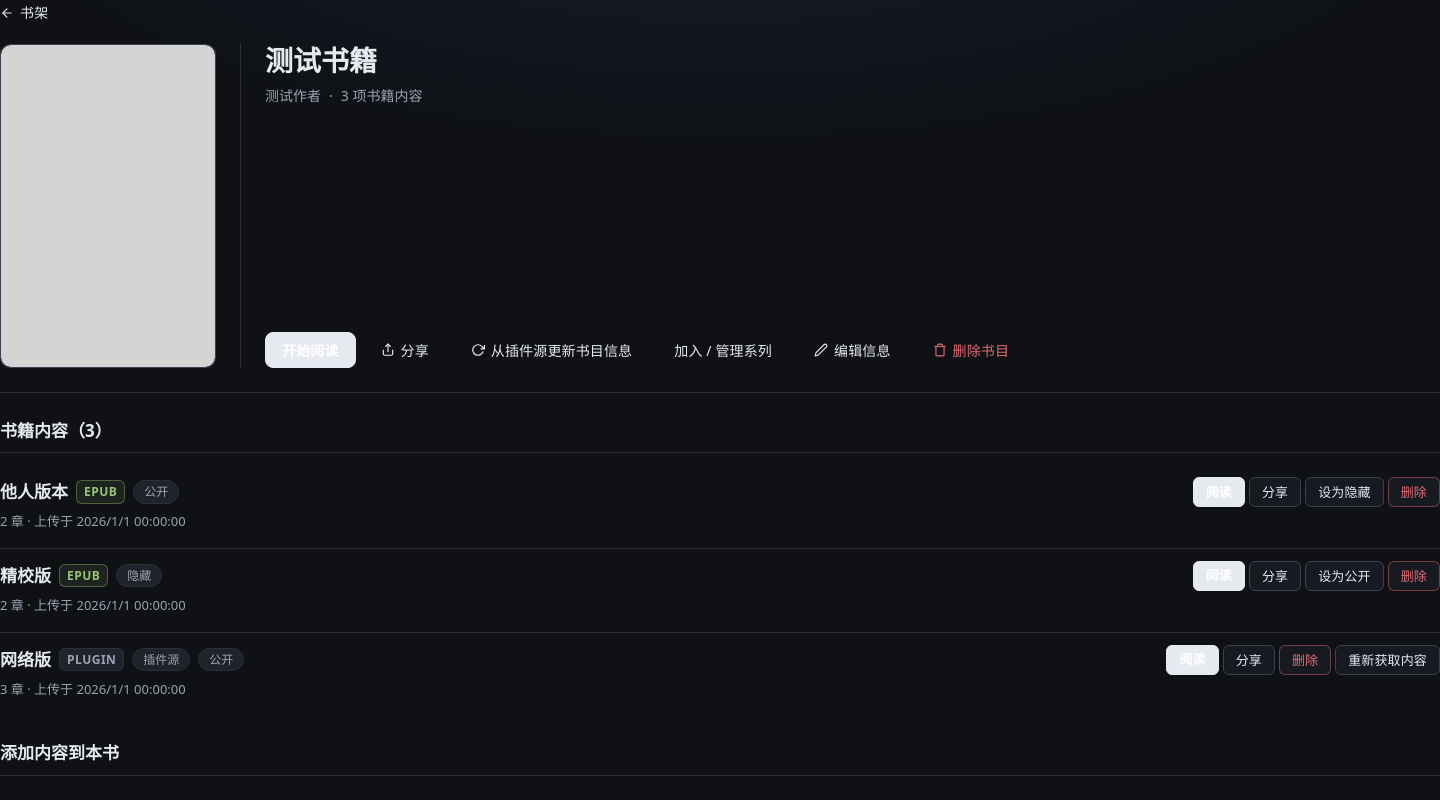
it: lets administrators select other users' public content
Expected: the heading "测试书籍" is shown, x1=265 y1=41 x2=377 y2=79
Click the button "分享" below "测试作者".
click(405, 350)  # box x1=364 y1=332 x2=446 y2=368
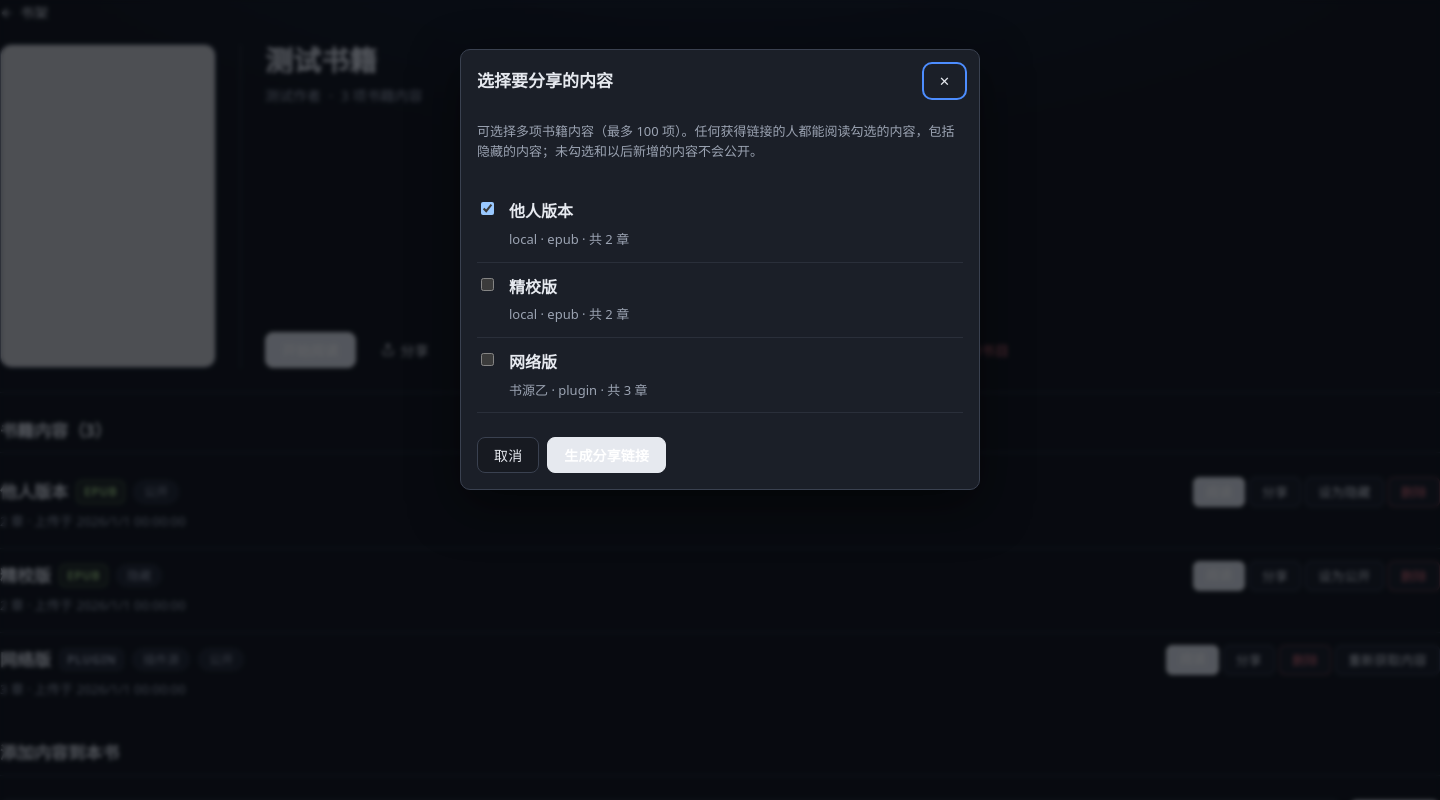
Expected: the checkbox labelled "他人版本 local · epub · 共 2 章" is checked, x1=481 y1=202 x2=494 y2=215
